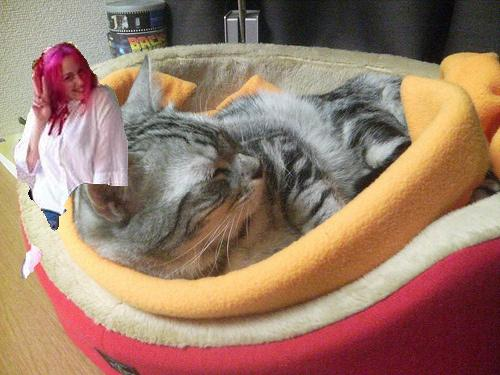tampered: (14, 42, 128, 279)
